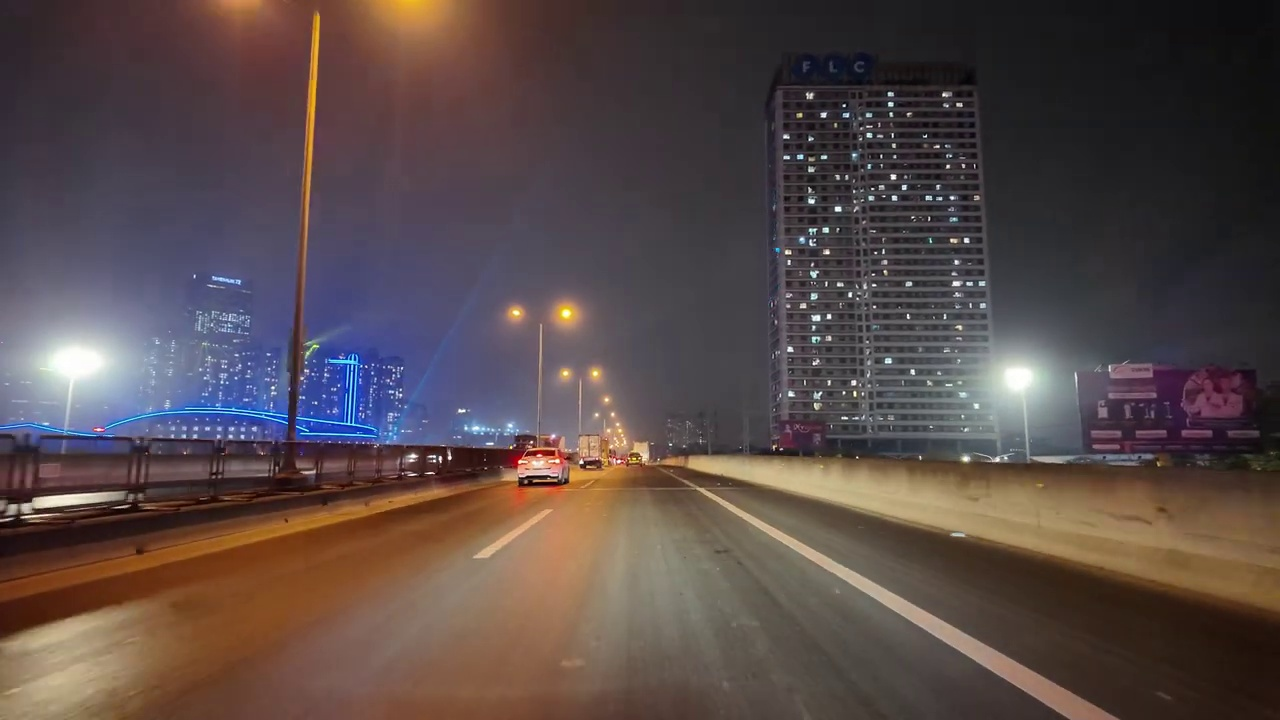acesa: (54, 346, 99, 378), (998, 363, 1033, 394), (501, 300, 530, 330), (552, 300, 582, 328), (588, 363, 607, 386)
